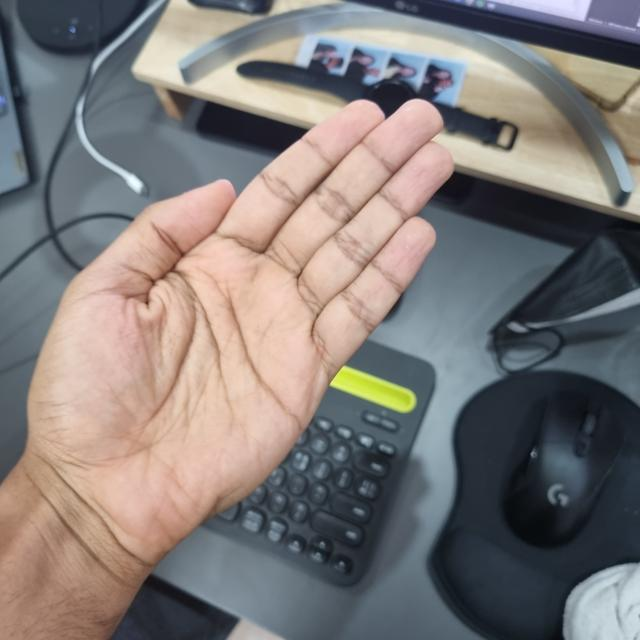Paper: (23, 97, 454, 547)
